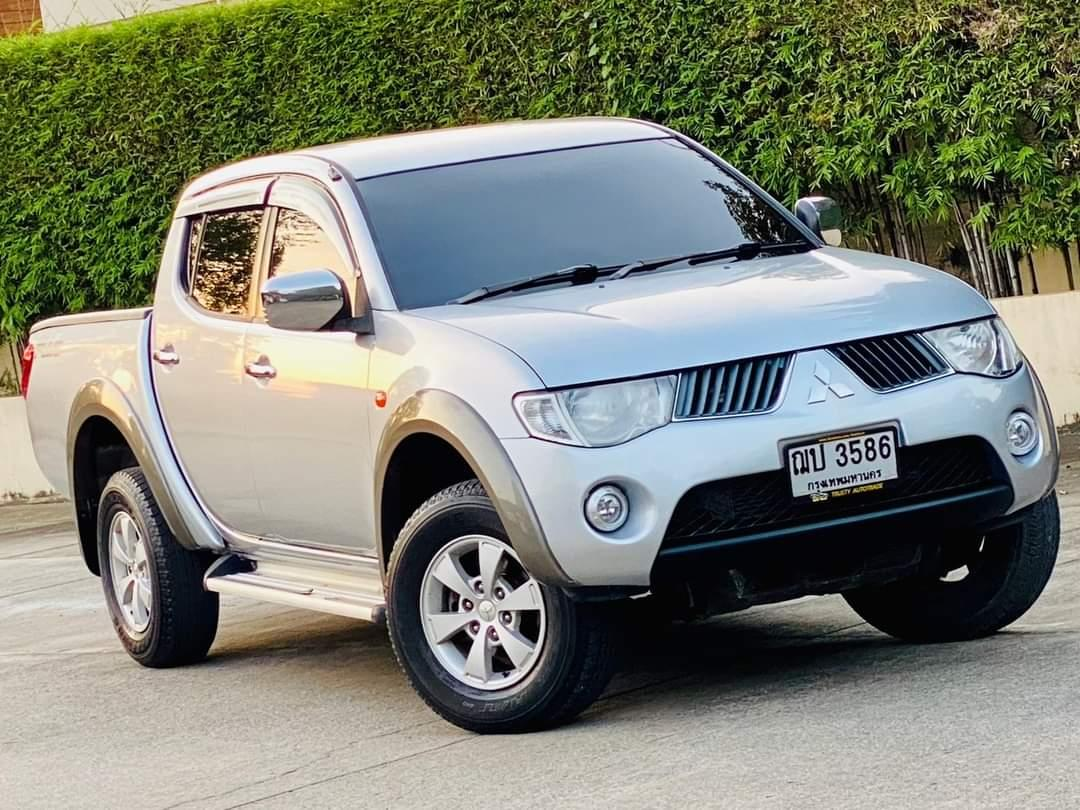license-plate: (779, 423, 903, 512)
